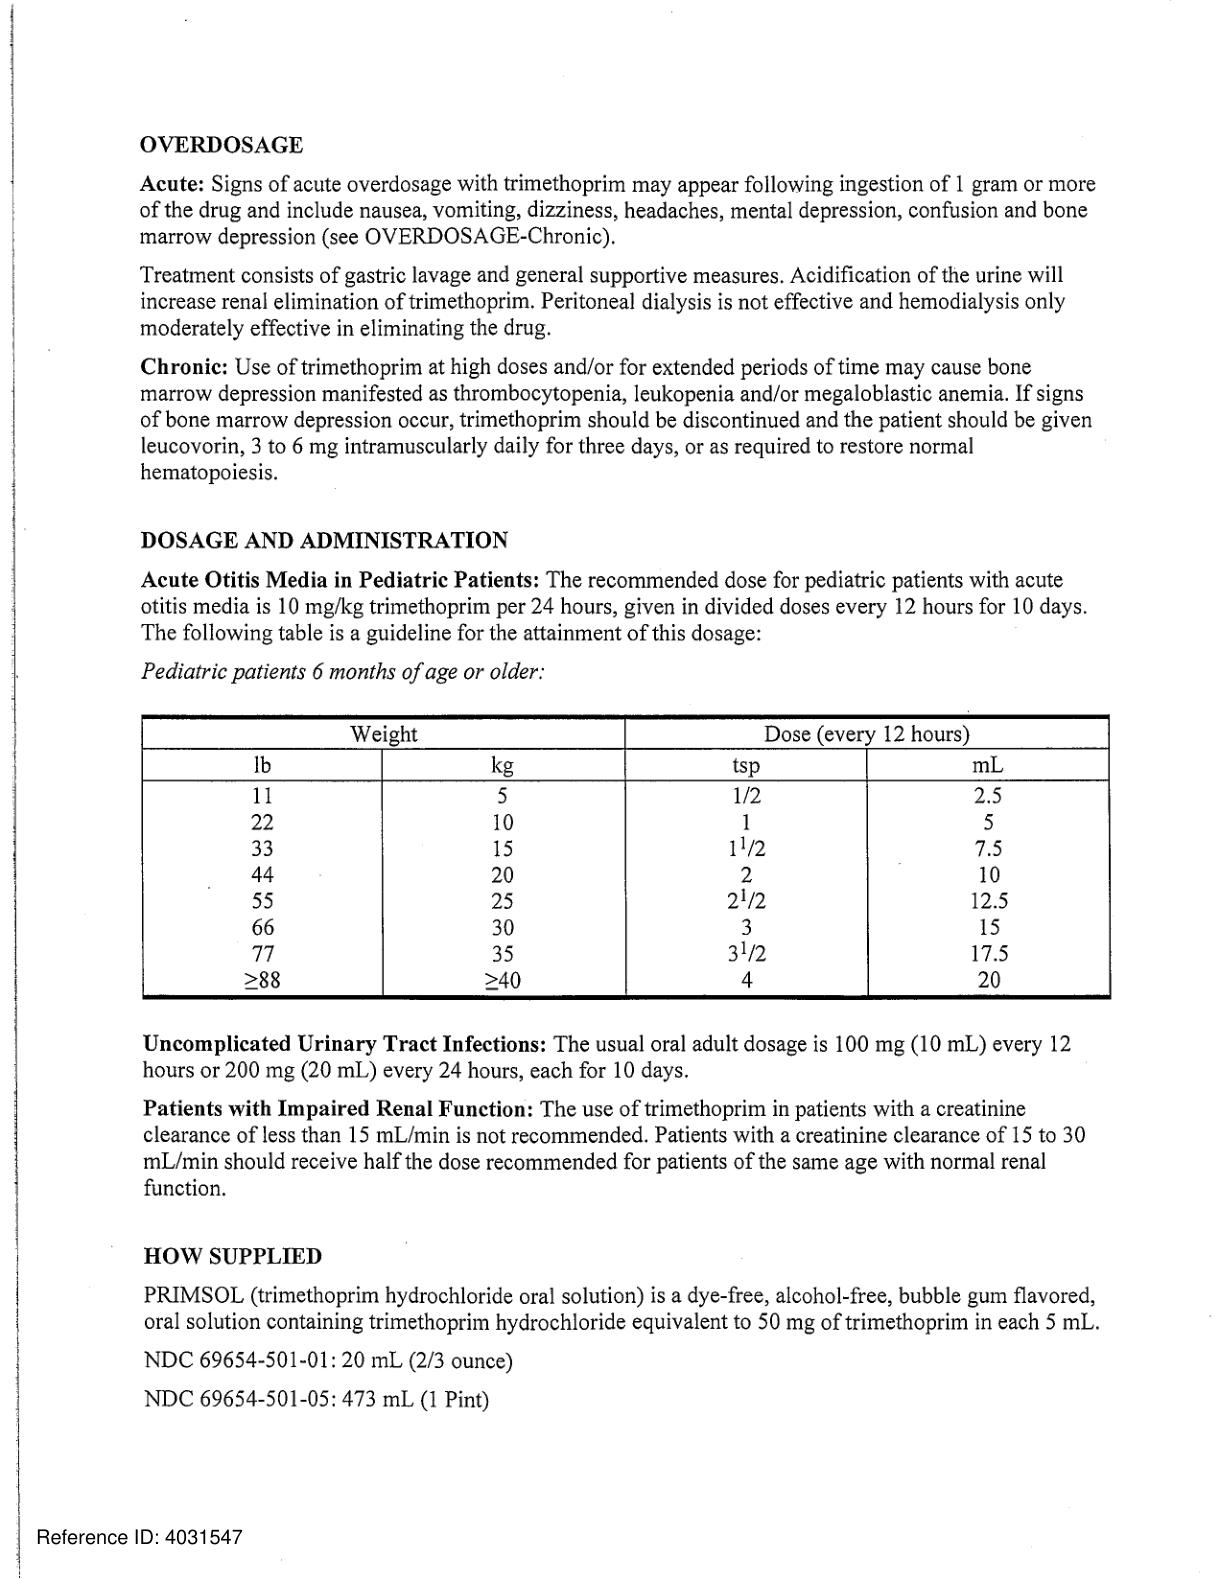partial_lined_merged_cells: (141, 710, 1117, 1000)
